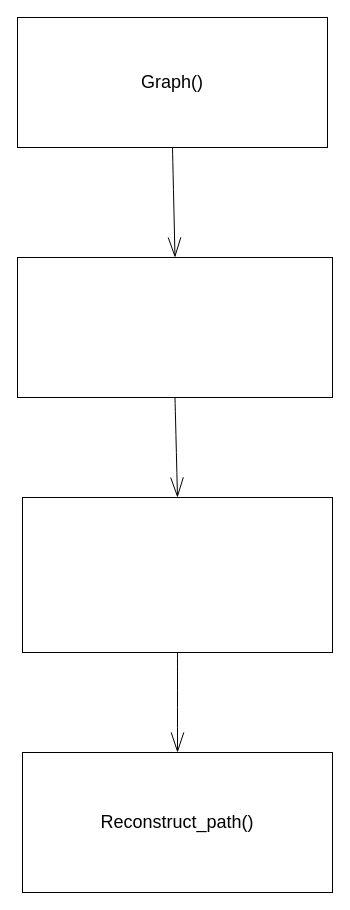
Some shapes in this 350 by 910 pixel diagram are drawn without their labels. The box of each missing label's shape, as (x1, y1, x2, y2) in pixels:
BFS() OR DFS(): (16, 256, 332, 398)
Goal_Test (): (22, 496, 332, 652)
